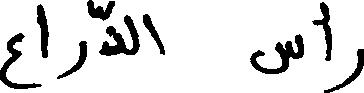X: (252, 29, 301, 78), (89, 0, 121, 60), (332, 44, 363, 92), (315, 0, 330, 92), (0, 28, 21, 92), (59, 36, 84, 83), (144, 9, 162, 58), (38, 0, 46, 91), (125, 10, 136, 59)
